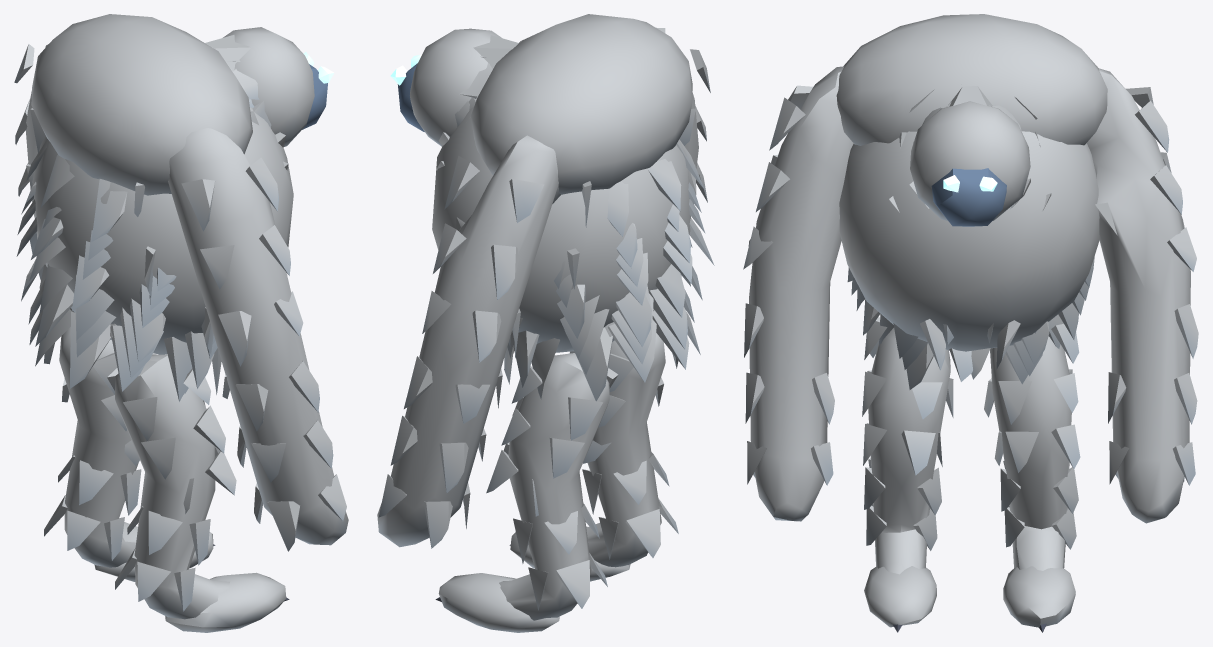
The model's file is yeti.glb.
3 renders of one model, left to right at view 1: azimuth 30°, elevation 25°; view 2: azimuth 150°, elevation 25°; view 3: azimuth 270°, elevation 25°, orthographic. The views are drawn at different scales.
Parts seen in each view (by area): view 1: yeti.001; view 2: yeti.001; view 3: yeti.001.
Boxes of the visible parts, x1=… form: yeti.001: x1=14, y1=14, x2=348, y2=632; yeti.001: x1=377, y1=14, x2=714, y2=632; yeti.001: x1=743, y1=14, x2=1198, y2=632.
Bounding box in the file's own units: 1.1 × 2.07 × 1.51.
